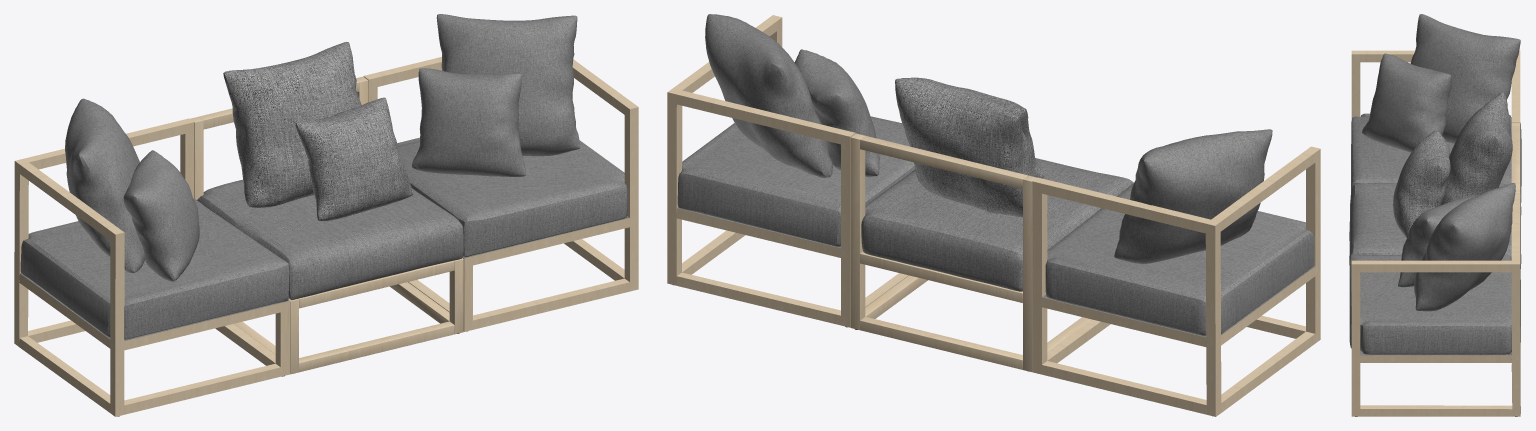
3 views of the same model, side by side, from view 1: azimuth 30°, elevation 25°; view 2: azimuth 150°, elevation 25°; view 3: azimuth 270°, elevation 25° (orthographic). The views are drawn at different scales.
Parts seen in each view (by area): view 1: C-skp361.001, C-skp361, C-skp6C16; view 2: C-skp361.001, C-skp361, C-skp6C16; view 3: C-skp361, C-skp361.001, C-skp6C16.
Boxes of the visible parts, left/top/right/bottom form: C-skp361.001: left=14, top=98, right=289, bottom=416; C-skp361: left=363, top=14, right=638, bottom=331; C-skp6C16: left=190, top=42, right=463, bottom=374; C-skp361.001: left=1032, top=129, right=1320, bottom=416; C-skp361: left=667, top=14, right=915, bottom=327; C-skp6C16: left=850, top=77, right=1133, bottom=371; C-skp361: left=1349, top=183, right=1520, bottom=416; C-skp361.001: left=1351, top=14, right=1521, bottom=202; C-skp6C16: left=1349, top=92, right=1521, bottom=268.
Bounding box in the file's own units: 1.89 × 0.8148 × 0.6434.
3 materials, 2 textured.
